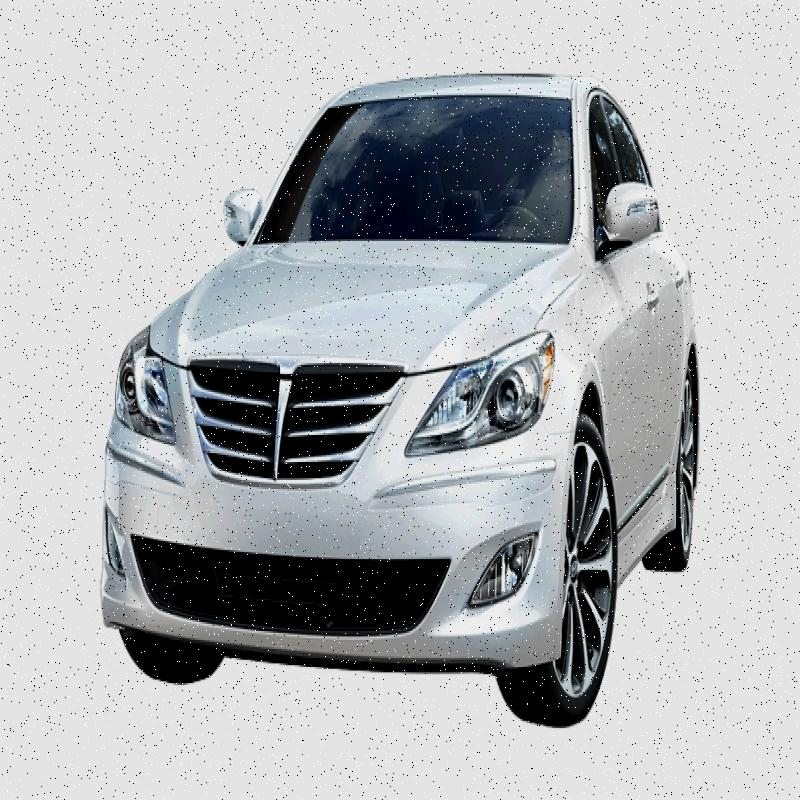car: (82, 43, 728, 731)
